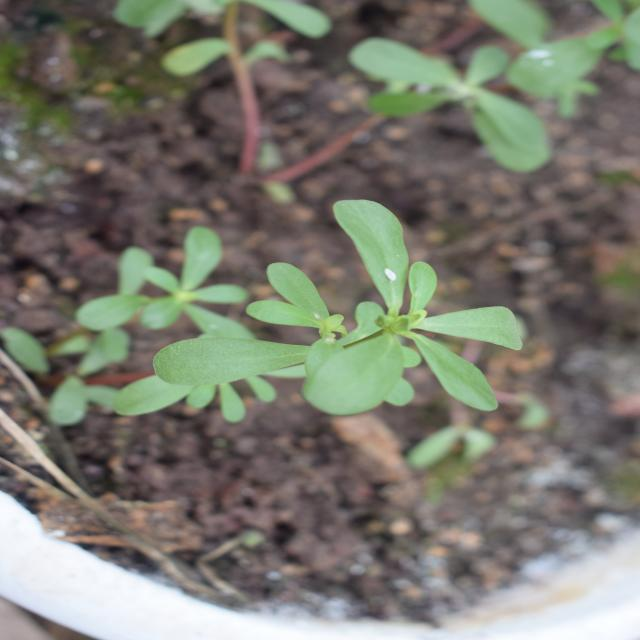purslane: (194, 101, 428, 591)
